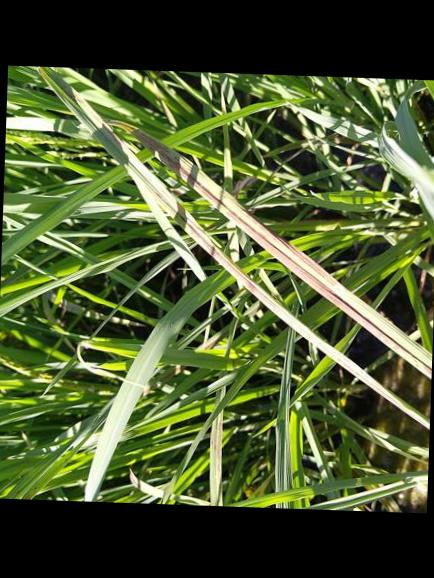Leaf Streak: (62, 78, 426, 425), (119, 124, 432, 378)
